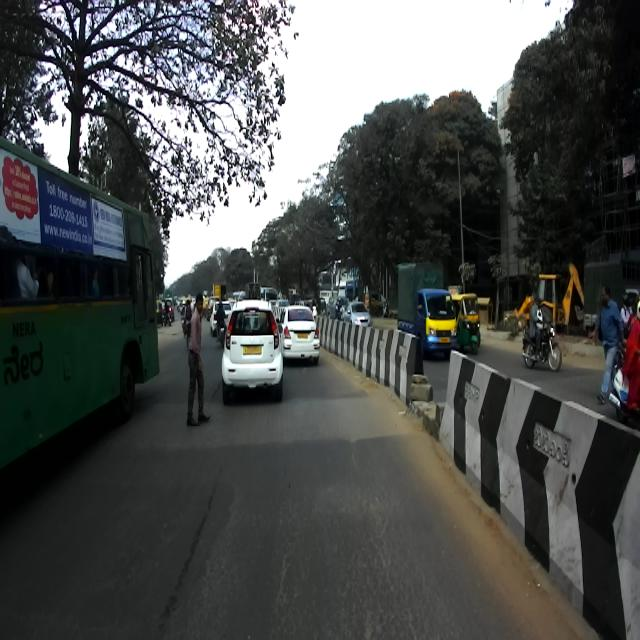barrier ahead at: (435, 350, 640, 640), (328, 316, 440, 433)
bus ahead at: (0, 128, 160, 476)
car ahead at: (220, 301, 282, 394)
motorcycle ahead at: (523, 315, 562, 369)
person ahead at: (175, 283, 208, 437)
